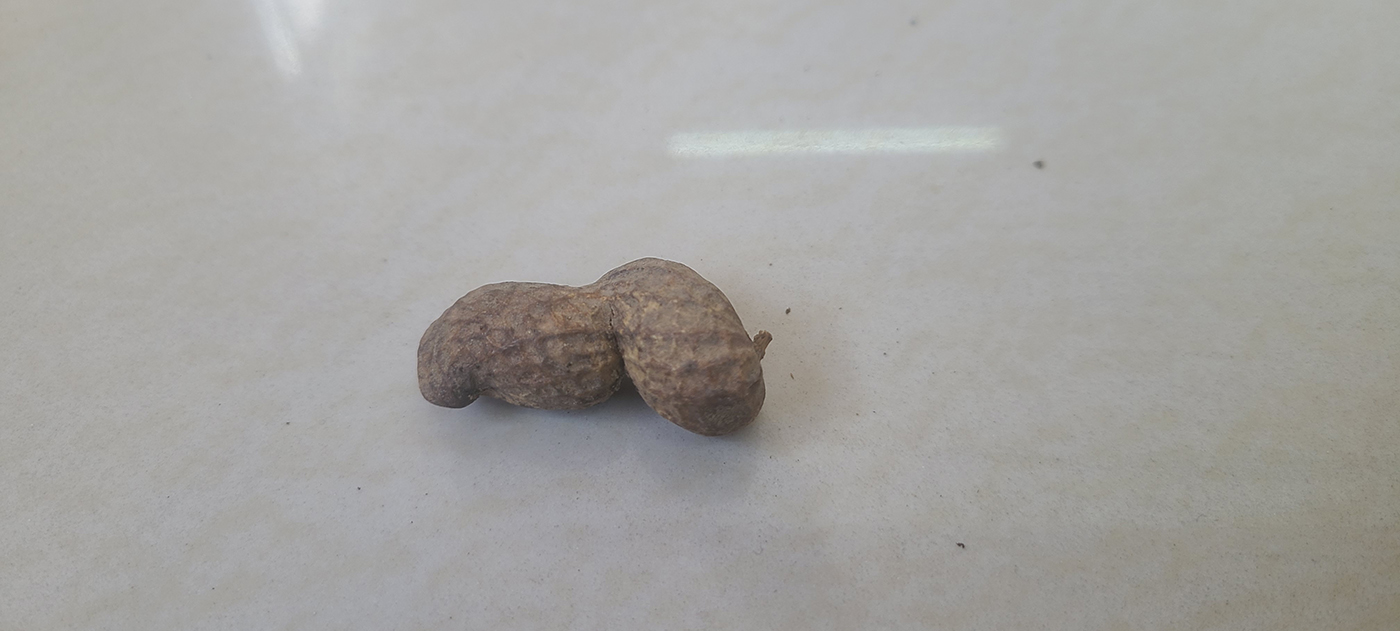l: (414, 259, 770, 437)
